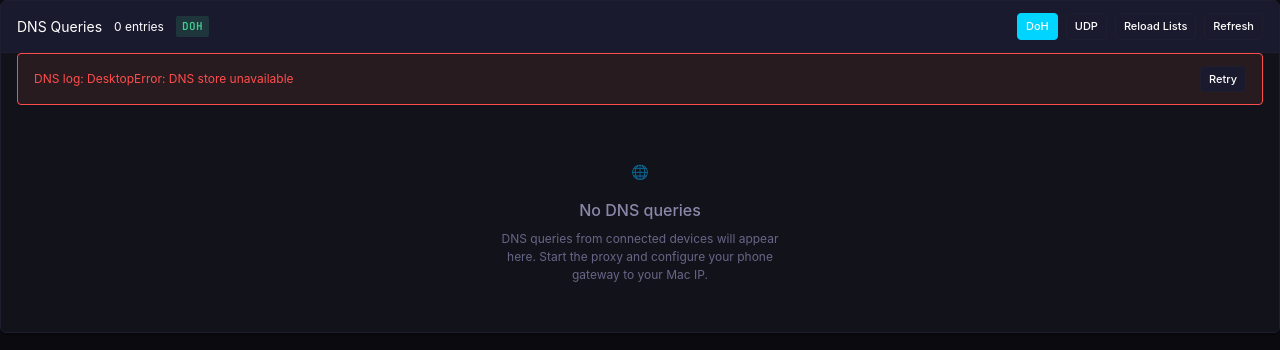
Test: DnsPage › keeps partial load failures visible and retryable
The width and height of the screenshot is (1280, 350).
expect the message shows "DNS store unavailable": met, box [34,71,294,86]
What coordinates should you click on to do the following:
click the button "Retry"
I would click on:
 (1223, 79)
Its box is [1200,66,1246,92].
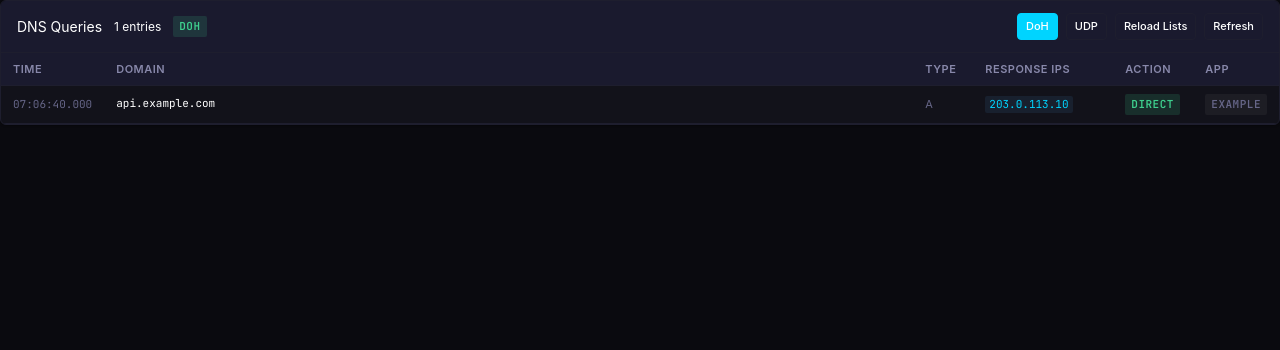
expect the text "api.example.com" is shown: met, box [104,86,913,123]
expect the message "DNS log: DesktopError: DNS store unavailable Retry" is gone: met
